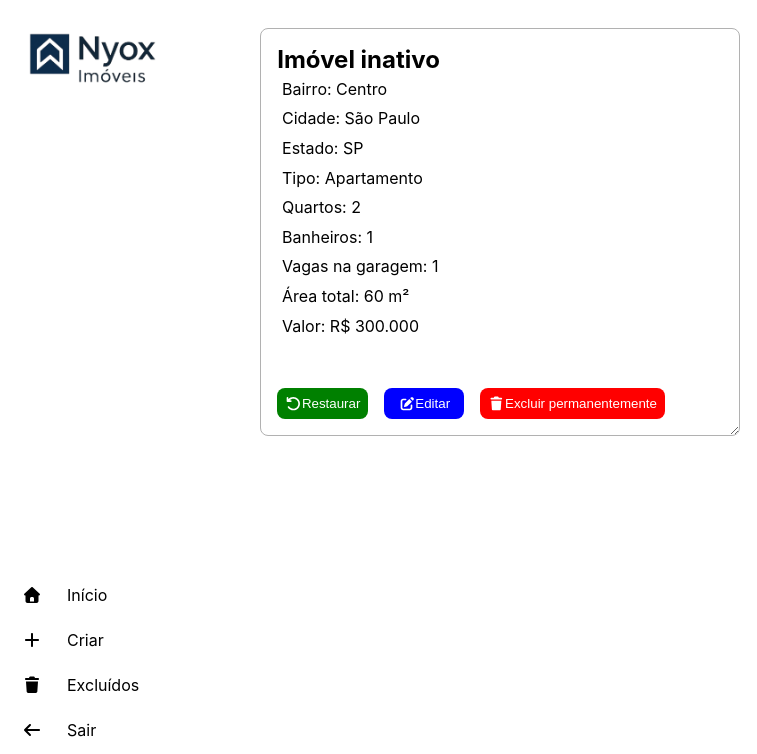
DeleteItem › deve reativar e remover imóvel com sucesso
The width and height of the screenshot is (757, 754).
Expected: the heading "Imóvel inativo" is shown, left=277, top=45, right=440, bottom=74
Click the button "Restaurar": (323, 404) left=277, top=388, right=368, bottom=419
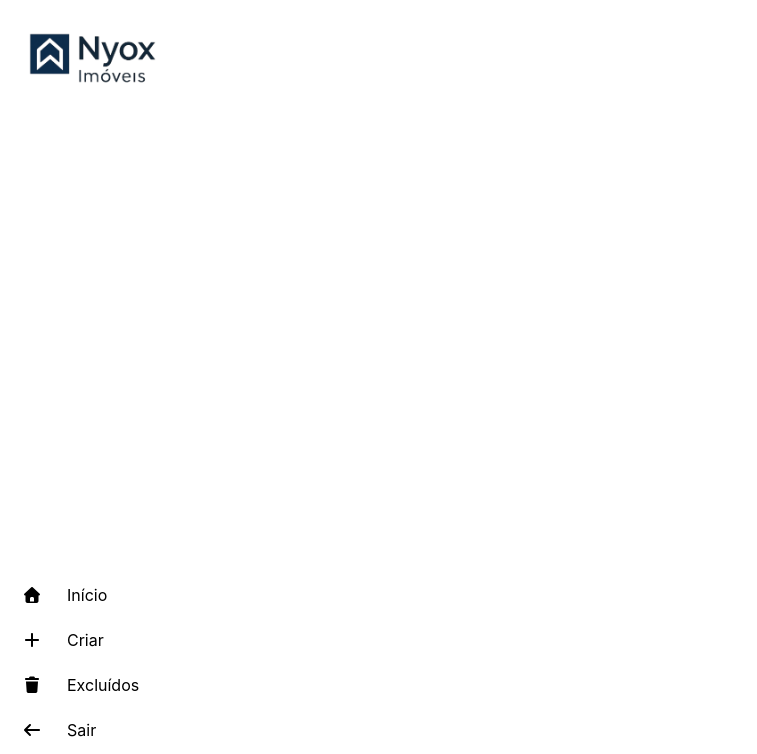
Expected: the heading "Imóvel inativo" is gone
